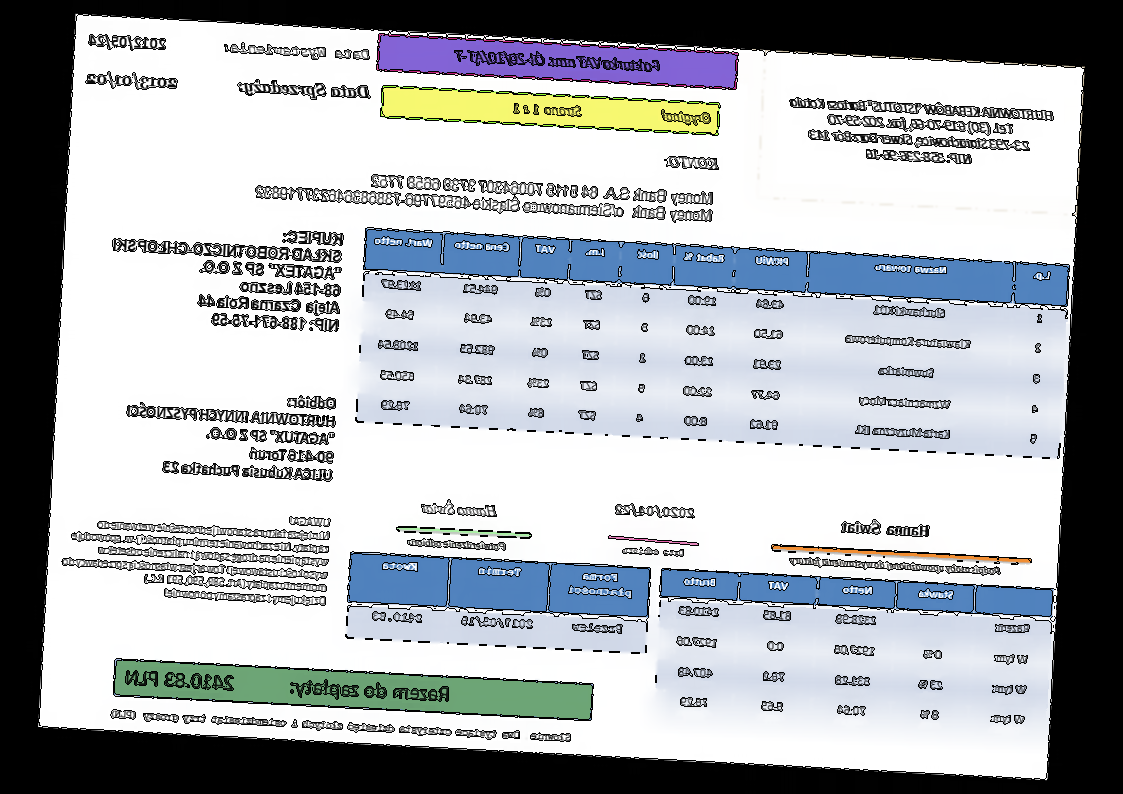Table: (353, 226, 1071, 461), (650, 565, 1057, 742), (346, 550, 652, 656)
TextBox: (58, 500, 334, 609), (252, 162, 716, 226), (107, 217, 347, 335), (122, 382, 340, 485), (784, 93, 1057, 172), (109, 705, 573, 747), (122, 663, 453, 707), (510, 98, 715, 129), (450, 46, 665, 75), (785, 552, 1003, 578), (235, 75, 372, 106), (221, 39, 374, 64), (81, 68, 179, 94), (838, 516, 934, 540), (611, 499, 699, 524), (84, 30, 170, 55), (405, 535, 510, 554), (418, 497, 500, 520), (661, 150, 723, 173), (620, 543, 687, 559)
